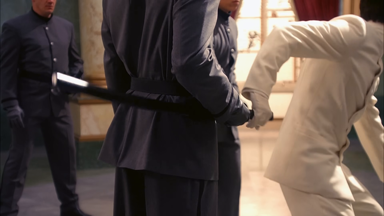bladed_weapon: (49, 67, 274, 123)
